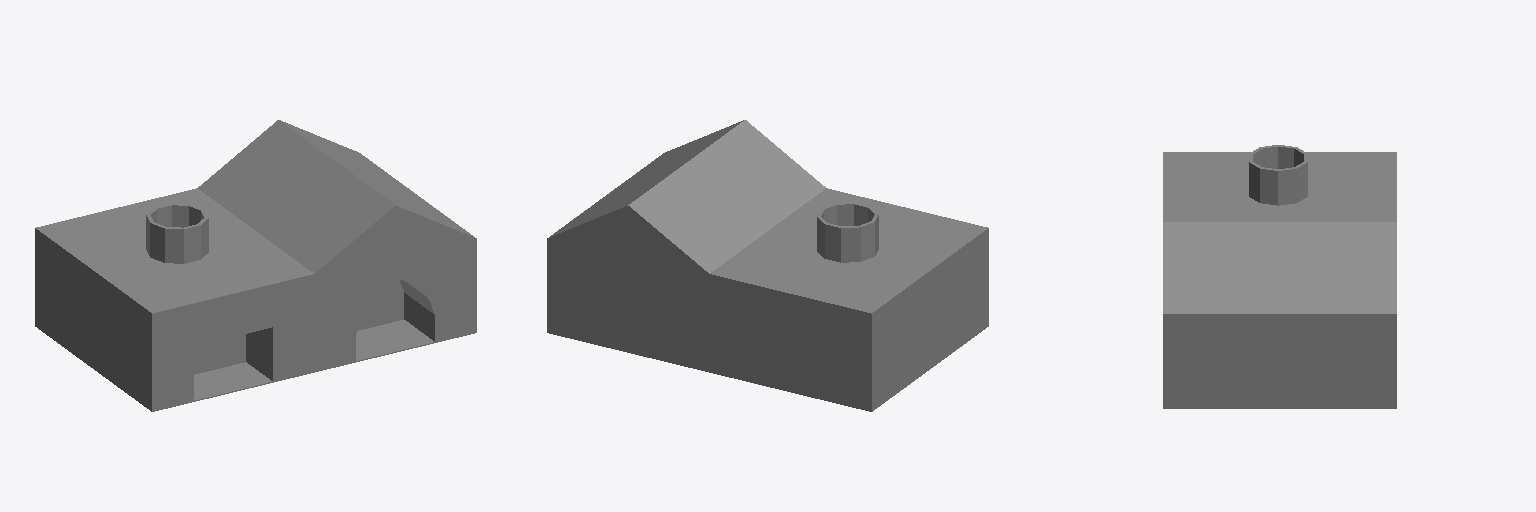
Rendered from factory.obj.
The picture shows the model from 3 angles: view 1: azimuth 30°, elevation 25°; view 2: azimuth 150°, elevation 25°; view 3: azimuth 270°, elevation 25°; orthographic projection.
Parts seen in each view (by area): view 1: Factory; view 2: Factory; view 3: Factory.
Boxes of the visible parts, x1=… form: Factory: x1=35, y1=120, x2=476, y2=411; Factory: x1=547, y1=120, x2=988, y2=411; Factory: x1=1163, y1=145, x2=1396, y2=408.
Size of the model in its own units: 40 by 17.37 by 25.